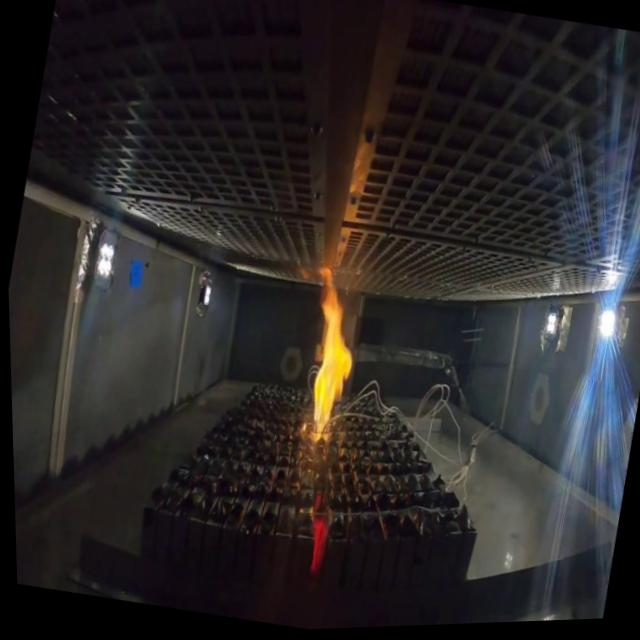fire: (277, 262, 375, 456)
